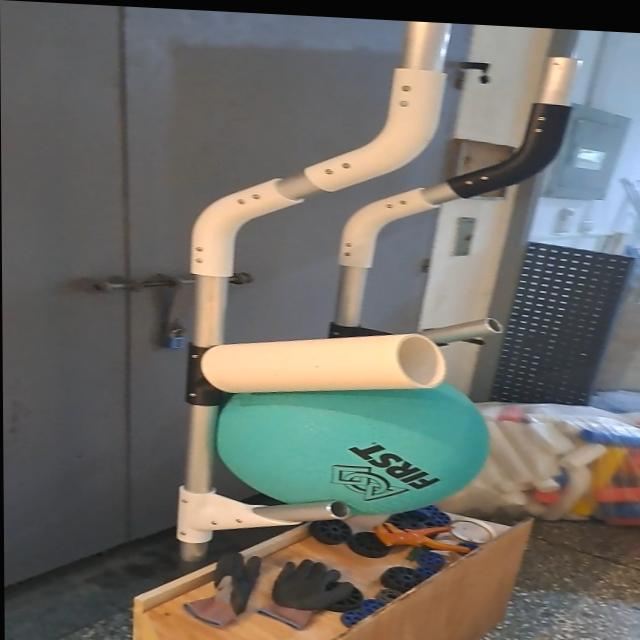ALGAE: (218, 361, 497, 524)
CORAL: (199, 321, 454, 404)
